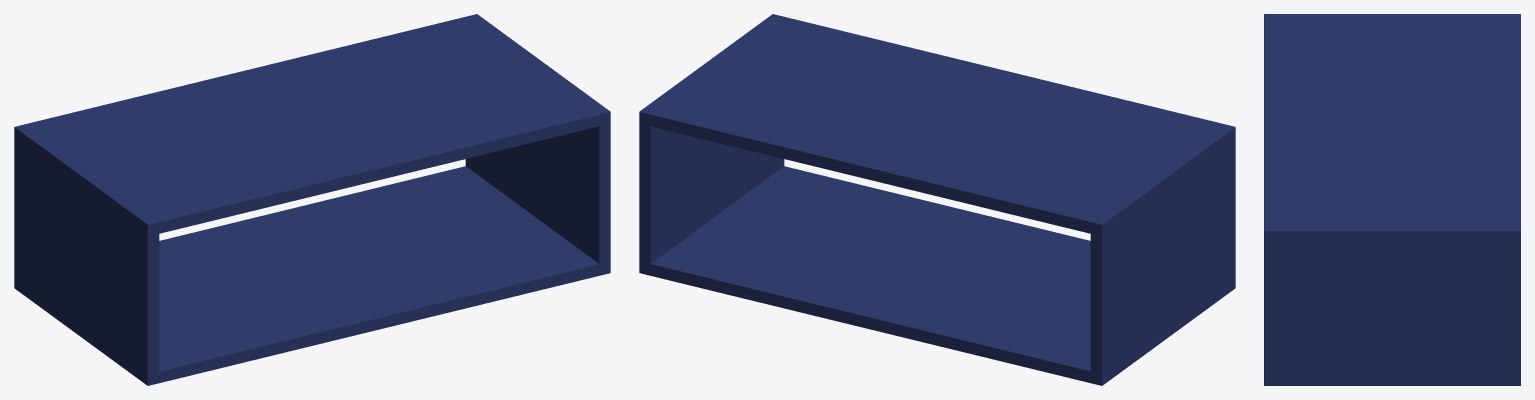
Rendered from MOD_2X07_A_O_AF.glb.
3 renders of one model, left to right at view 1: azimuth 30°, elevation 25°; view 2: azimuth 150°, elevation 25°; view 3: azimuth 270°, elevation 25°, orthographic. The views are drawn at different scales.
Bounding box in the file's own units: 720 × 240 × 360.
